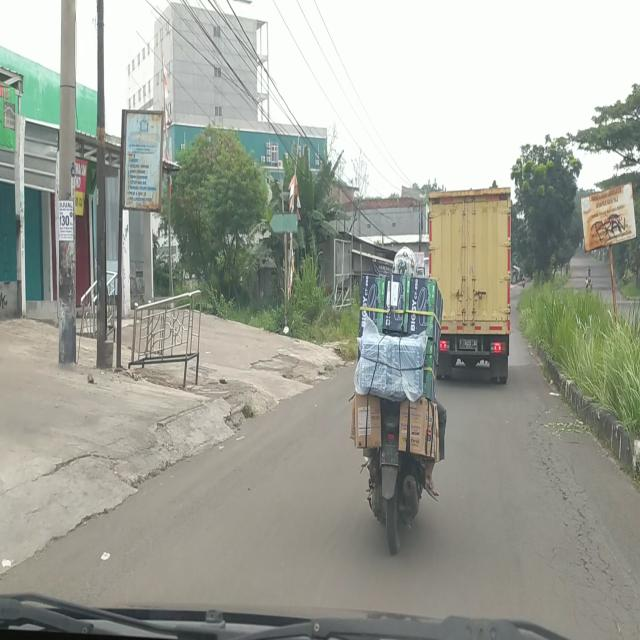Drain Hole: (529, 423, 630, 629)
